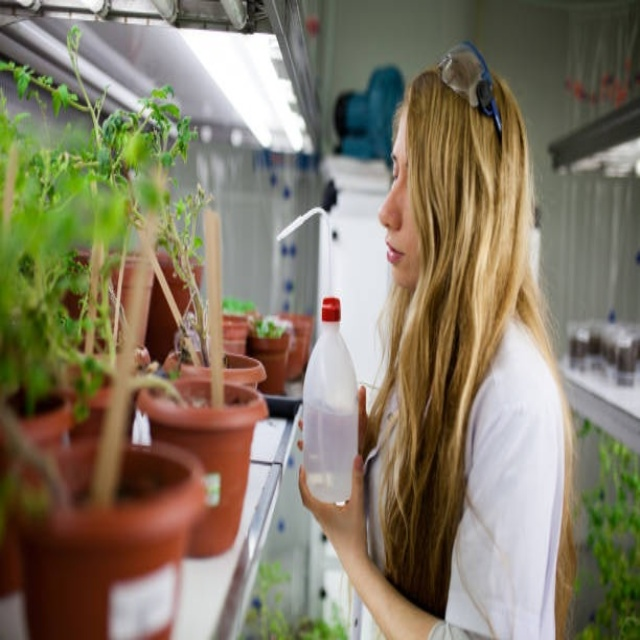Sin_gafas: (390, 144, 411, 188)
Sin_guantes: (296, 385, 371, 543)
Sin_mascara: (385, 226, 412, 282)
